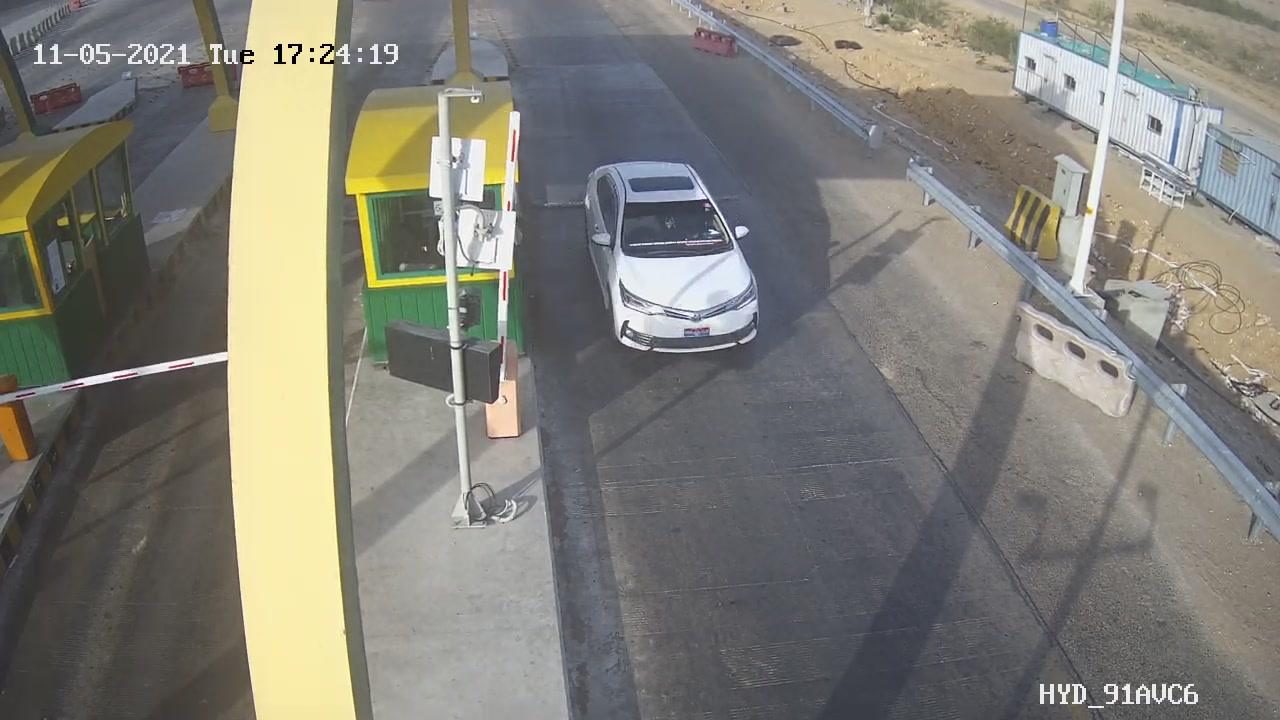F1: (564, 147, 785, 382)
